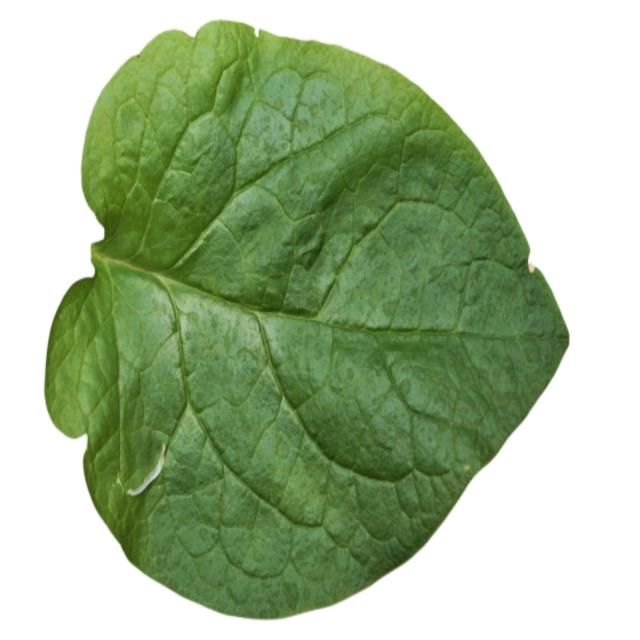Medicinal-Basale: (44, 20, 570, 619)
